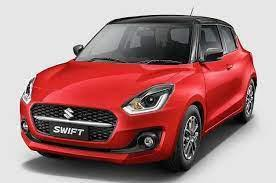Hatchback: (19, 14, 260, 170)
